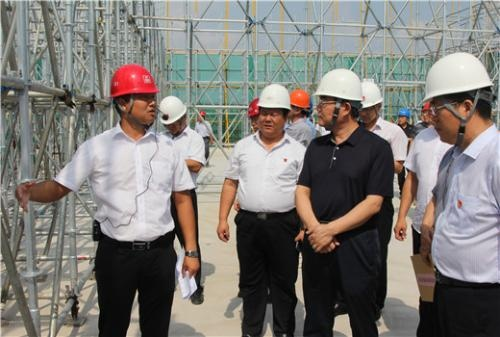blue: (396, 107, 411, 126)
red: (109, 62, 158, 128)
white: (425, 52, 494, 142), (315, 69, 361, 130), (256, 84, 290, 136), (158, 95, 190, 135), (355, 78, 382, 122)
yellow: (288, 87, 310, 120)
